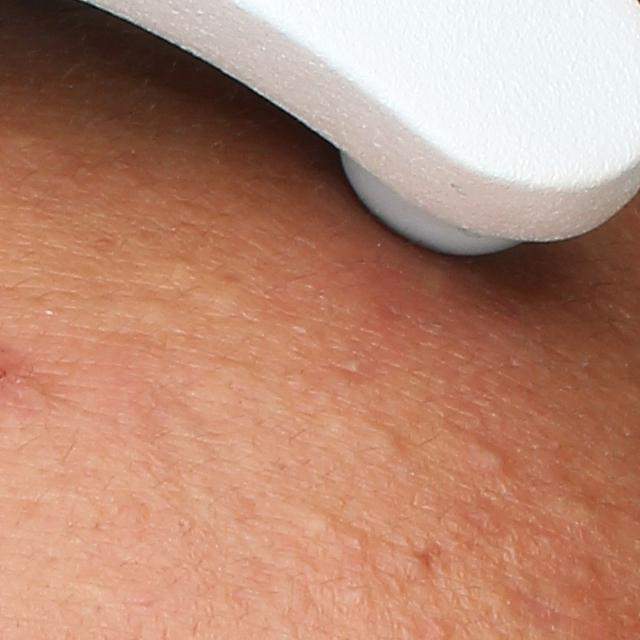comedo: (543, 489, 596, 530), (360, 420, 406, 457), (342, 581, 375, 613), (304, 510, 333, 539), (571, 558, 601, 585), (345, 529, 366, 551)
